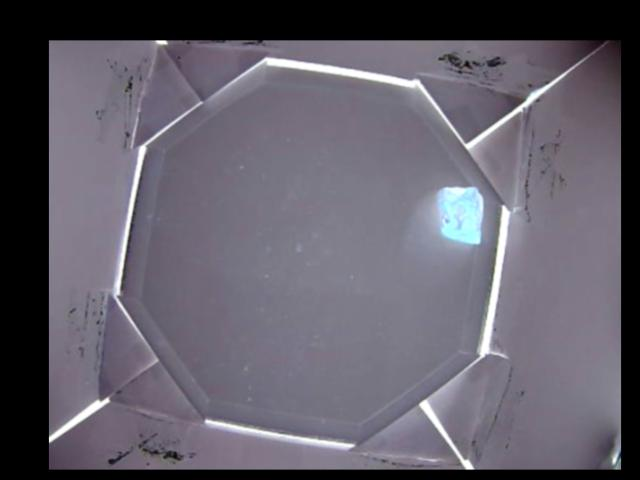Brisk: (436, 187, 483, 245)
